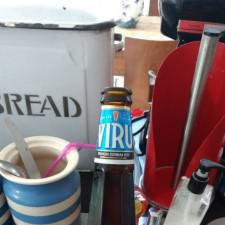beer: (85, 87, 142, 225)
